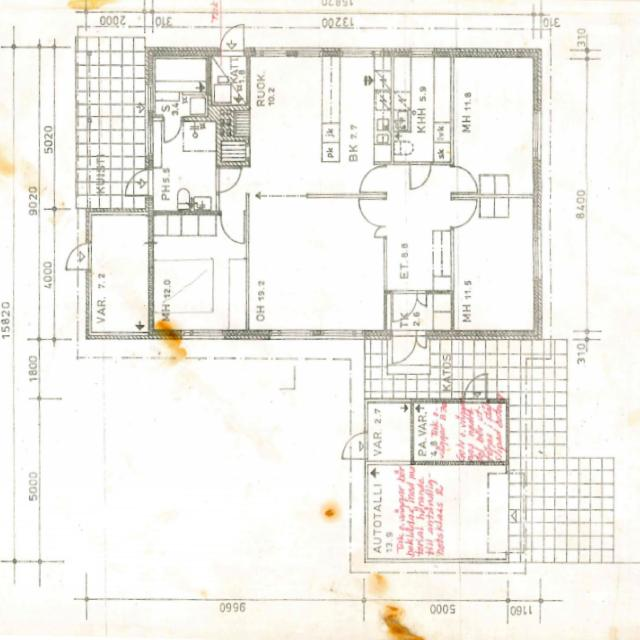door: (391, 329, 416, 364), (220, 20, 243, 56), (392, 290, 417, 322), (450, 200, 478, 228), (124, 169, 153, 195), (359, 200, 386, 227), (360, 166, 387, 192), (451, 166, 476, 194), (341, 433, 367, 459), (464, 373, 486, 402), (216, 168, 240, 192), (410, 162, 430, 188), (163, 117, 180, 140), (416, 330, 426, 348), (374, 226, 387, 238), (416, 290, 426, 304)
